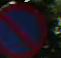No waiting: (1, 3, 48, 55)
